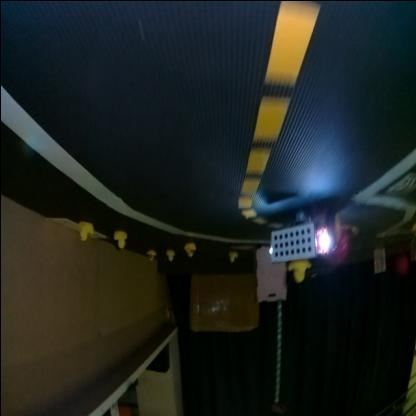Duckie: (287, 260, 309, 282), (77, 222, 93, 240), (112, 232, 126, 248), (182, 241, 195, 257), (146, 248, 154, 260), (227, 250, 236, 260)
Duckiebot: (270, 210, 348, 263)
